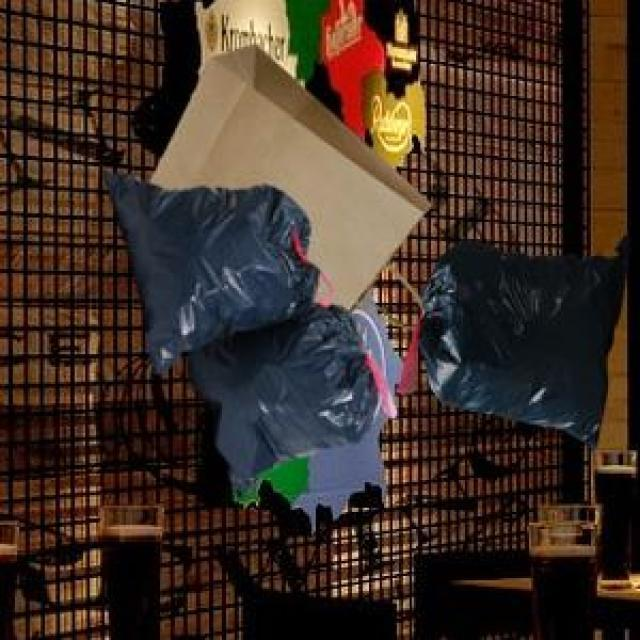miscellaneous trash: (101, 166, 393, 493), (393, 230, 625, 446)
paper: (145, 41, 427, 309)
